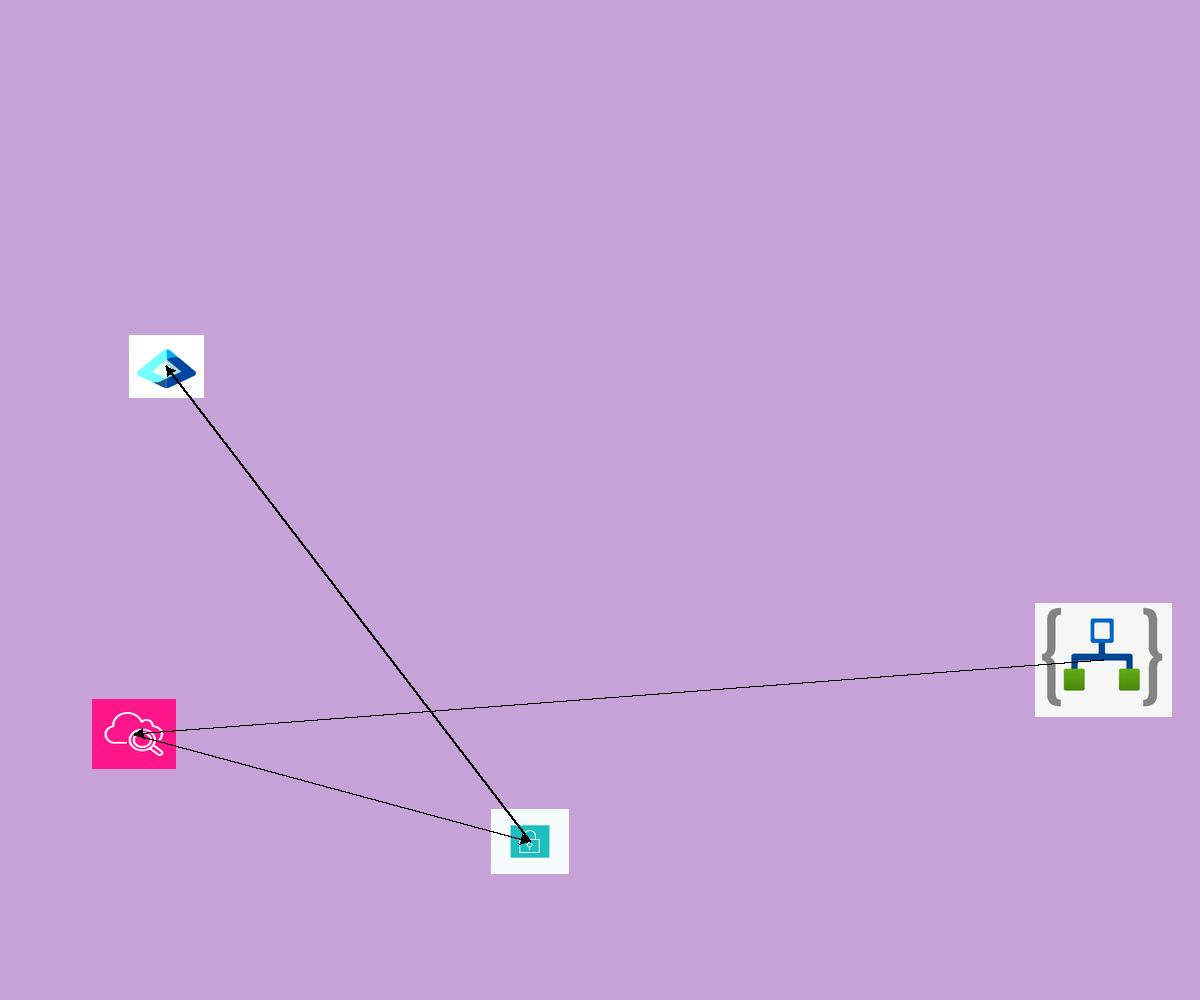AWS-CloudWatch: (92, 699, 176, 769)
AWS-Private-subnet: (491, 809, 569, 874)
Azure_integration-204-Logic-Apps: (1035, 603, 1172, 717)
Azure_microsoft_entra: (129, 335, 204, 398)
